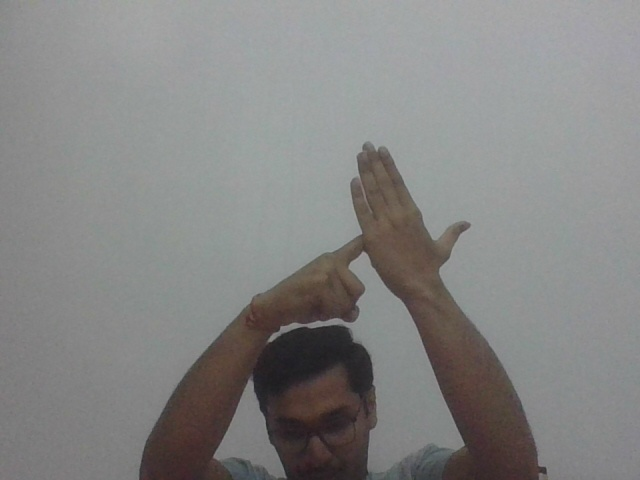R: (268, 133, 472, 326)
